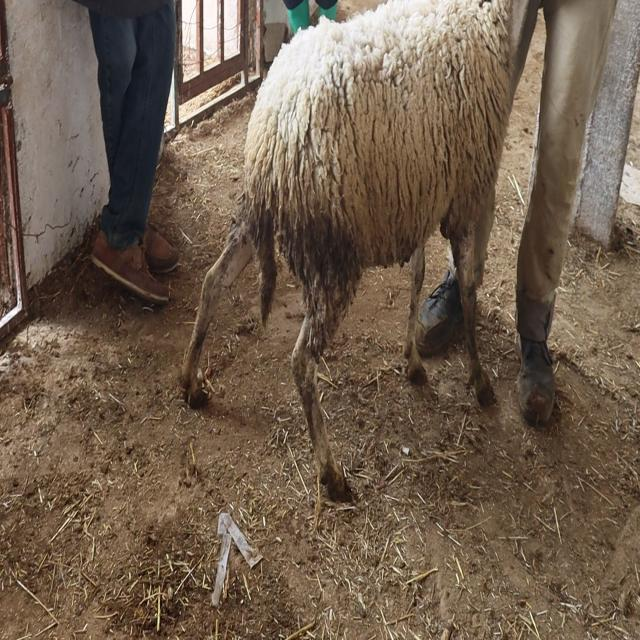Score_4: (181, 0, 515, 501)
